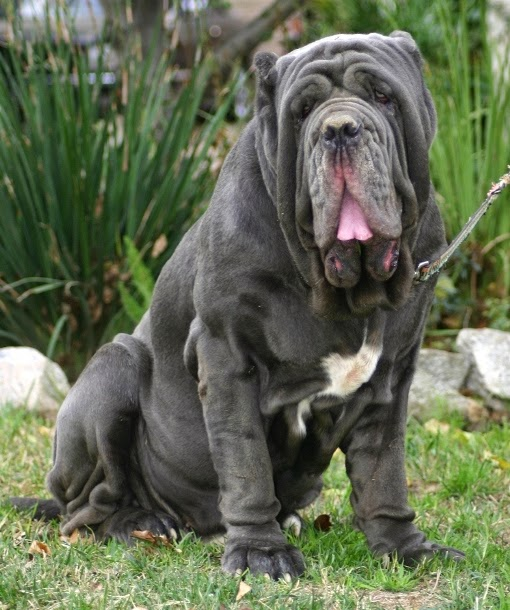neapolitan_mastiff: (2, 27, 445, 585)
